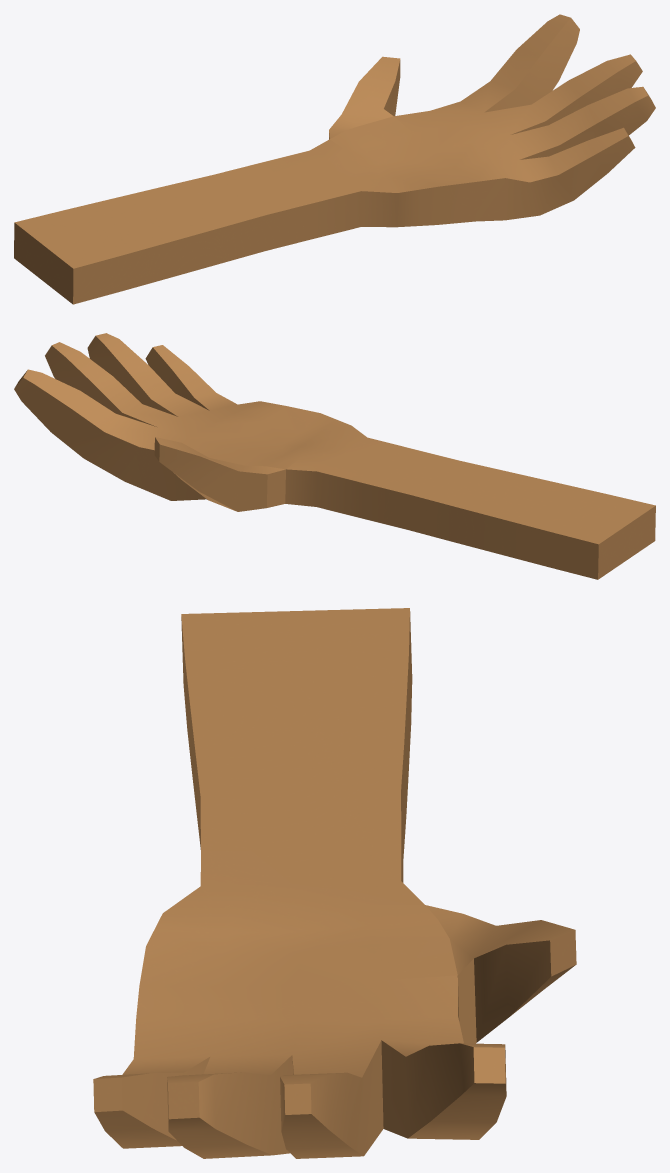
The model's file is leftHand.fbx.
3 views of the same model, one above another, from view 1: azimuth 30°, elevation 25°; view 2: azimuth 150°, elevation 25°; view 3: azimuth 270°, elevation 25° (orthographic). The views are drawn at different scales.
Visible parts, largest first — view 1: leftHand; view 2: leftHand; view 3: leftHand.
Boxes of the visible parts, x1,y1,x2,y2 form: leftHand: (14,14,655,304); leftHand: (14,333,655,579); leftHand: (93,608,576,1158).
Bounding box in the file's own units: 4.11 × 0.7123 × 1.49.
